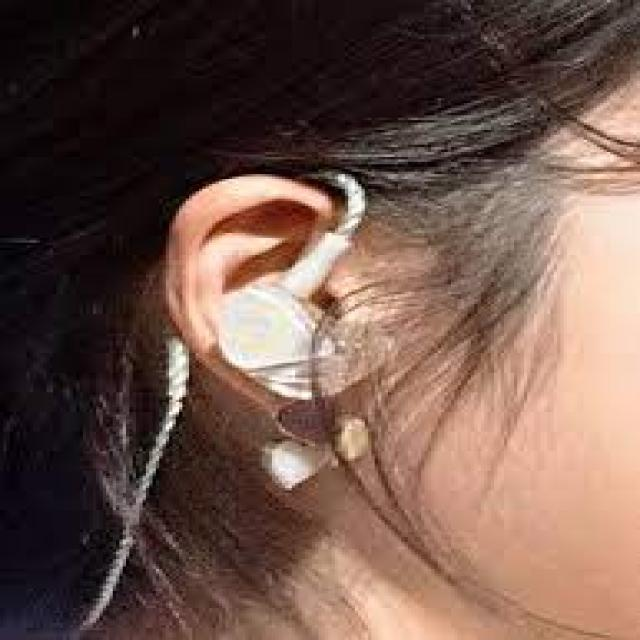earphone: (210, 164, 379, 411)
